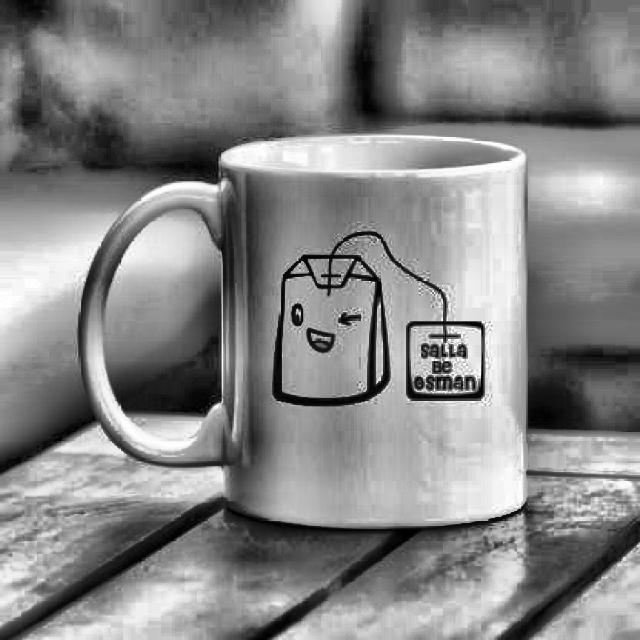Mug: (74, 131, 532, 534)
